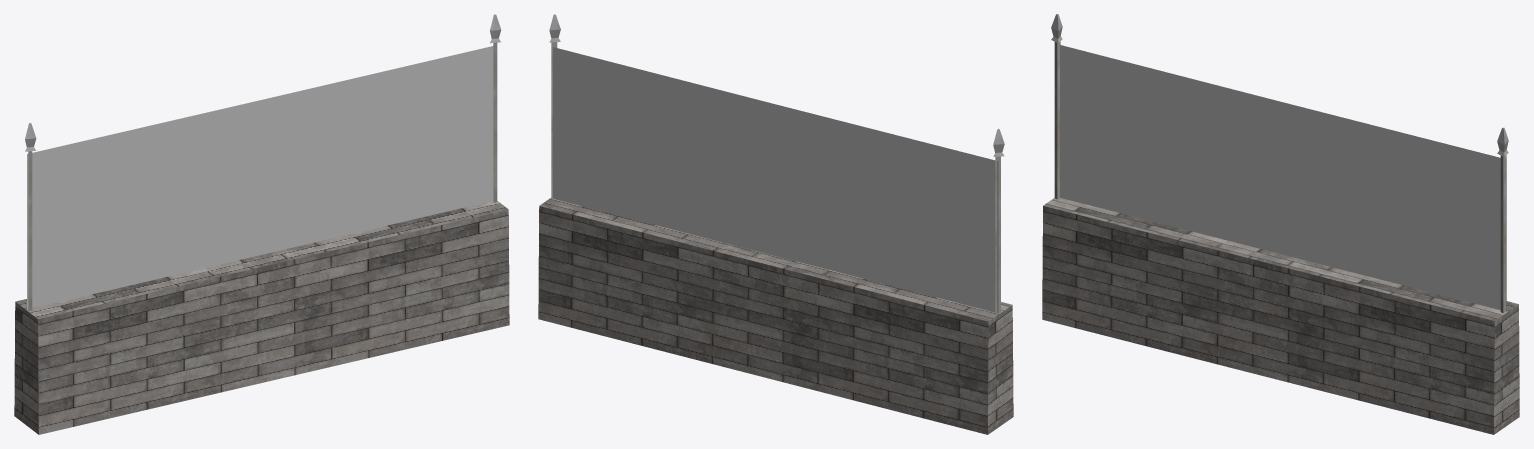
File: CastleWallPlain_Panel_Rail_6_v0__sq01_86.FBX
The picture shows the model from 3 angles, left to right: view 1: azimuth 30°, elevation 25°; view 2: azimuth 150°, elevation 25°; view 3: azimuth 330°, elevation 25°; orthographic projection. The views are drawn at different scales.
Visible parts, largest first — view 1: CastleWallPlain_Panel_Rail_6_v0__sq01_86; view 2: CastleWallPlain_Panel_Rail_6_v0__sq01_86; view 3: CastleWallPlain_Panel_Rail_6_v0__sq01_86.
Boxes of the visible parts, x1,y1,x2,y2 form: CastleWallPlain_Panel_Rail_6_v0__sq01_86: (14, 14, 509, 434); CastleWallPlain_Panel_Rail_6_v0__sq01_86: (538, 14, 1013, 434); CastleWallPlain_Panel_Rail_6_v0__sq01_86: (1042, 14, 1519, 434).
Size of the model in its own units: 64.71 by 40.02 by 7.45.
